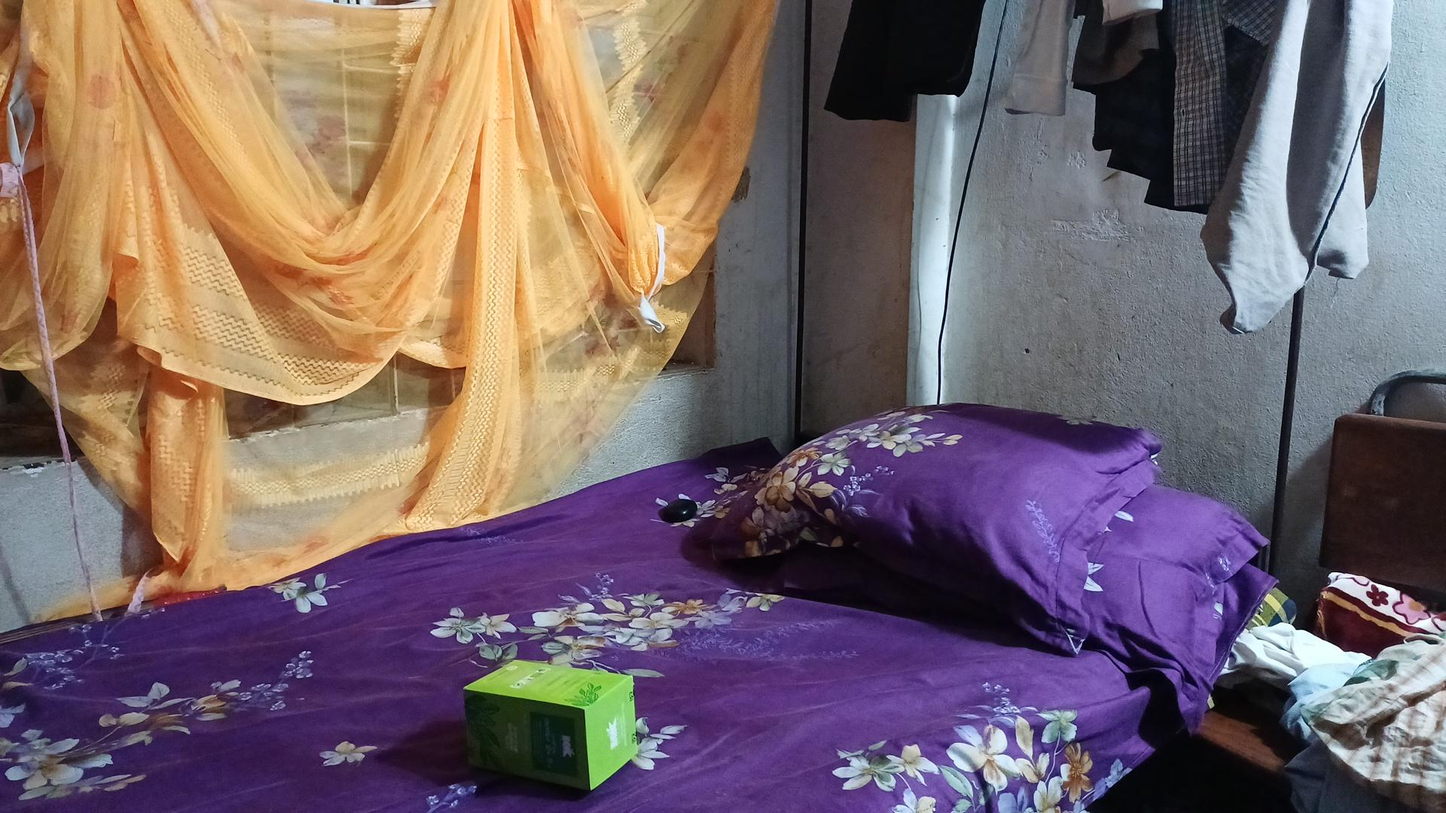Box: (453, 638, 669, 779)
Pillow: (773, 385, 1176, 655)
